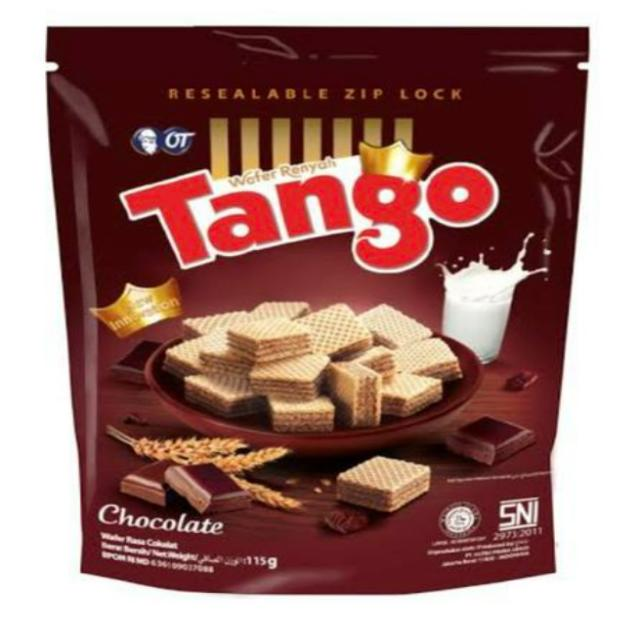KemasanPlastik: (42, 19, 584, 604)
